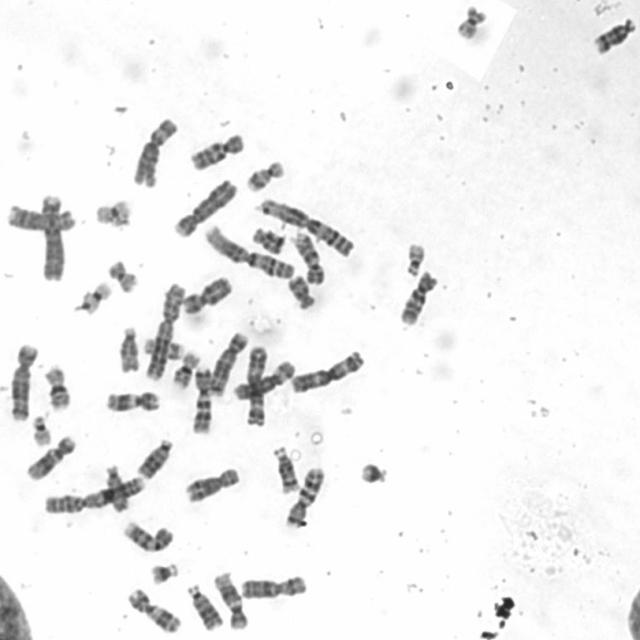A1: (254, 194, 358, 259), (200, 220, 297, 280)
A2: (143, 279, 186, 383), (41, 473, 147, 515)
A3: (288, 347, 365, 394), (243, 343, 269, 428)
B4: (170, 176, 238, 238), (36, 188, 68, 283)
B5: (6, 338, 40, 423), (207, 328, 249, 396)
C10: (396, 266, 440, 328), (187, 129, 247, 172)
C11: (123, 583, 184, 636), (102, 387, 162, 413)
C12: (23, 432, 78, 482), (210, 568, 250, 631)
C6: (129, 113, 180, 188), (230, 357, 297, 403)
C7: (283, 462, 326, 530), (190, 362, 214, 437)
C8: (182, 464, 241, 504), (4, 201, 77, 232)
C9: (119, 516, 175, 554), (290, 227, 326, 284)
D13: (184, 580, 224, 631), (135, 435, 175, 481)
D14: (590, 12, 638, 56), (270, 443, 300, 495)
D15: (101, 462, 132, 513), (116, 322, 141, 375)
E16: (40, 360, 73, 412), (169, 349, 201, 390)
E17: (138, 336, 195, 368), (241, 156, 287, 193)
E18: (248, 222, 287, 256), (285, 272, 318, 312)
F19: (90, 195, 134, 228), (75, 278, 114, 315)
F20: (452, 0, 489, 40), (104, 256, 140, 294)
G21: (356, 458, 390, 486), (147, 559, 180, 587)
G22: (401, 236, 429, 278), (28, 411, 54, 447)
X: (179, 273, 234, 316), (236, 571, 309, 601)
